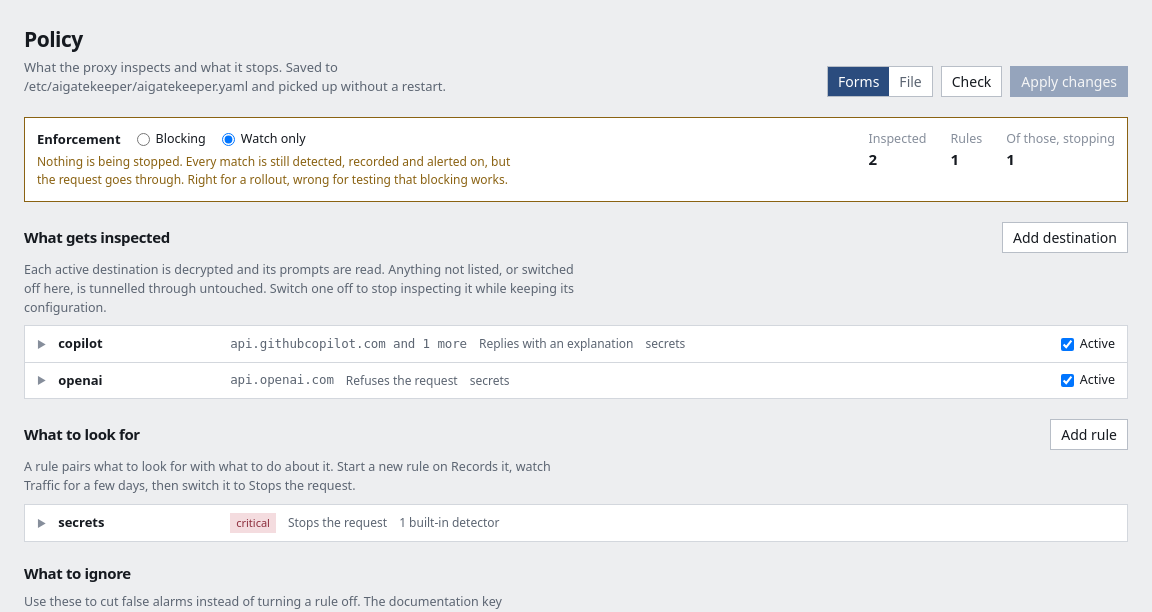
Test: Policy › lists services and rules collapsed, and opens one at a time
The image size is (1152, 612).
Check: the element "What gets inspected" is shown, box top-left (24, 222), bottom-right (1128, 399)
Check: the text "api.githubcopilot.com and 1 more" is shown, box top-left (230, 335), bottom-right (467, 353)
Click the button "copilot" at point(539, 344), box top-left (25, 326), bottom-right (1053, 362)
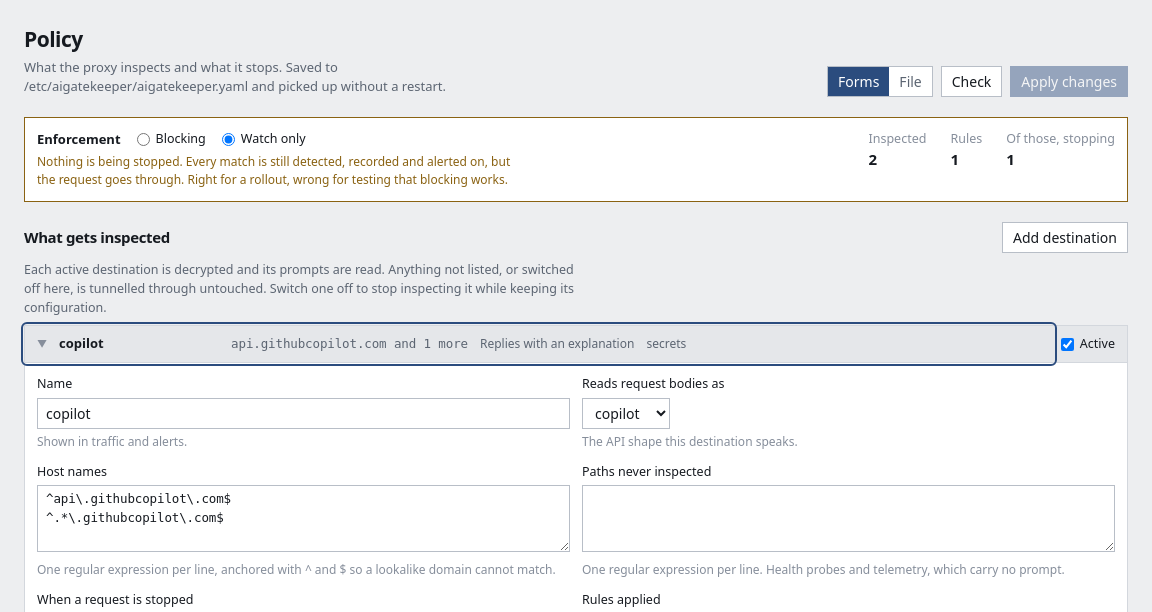
Check: the text box labelled "Host names" is shown, box top-left (37, 485), bottom-right (570, 552)
Click the button "copilot" at point(539, 344), box top-left (25, 326), bottom-right (1053, 362)
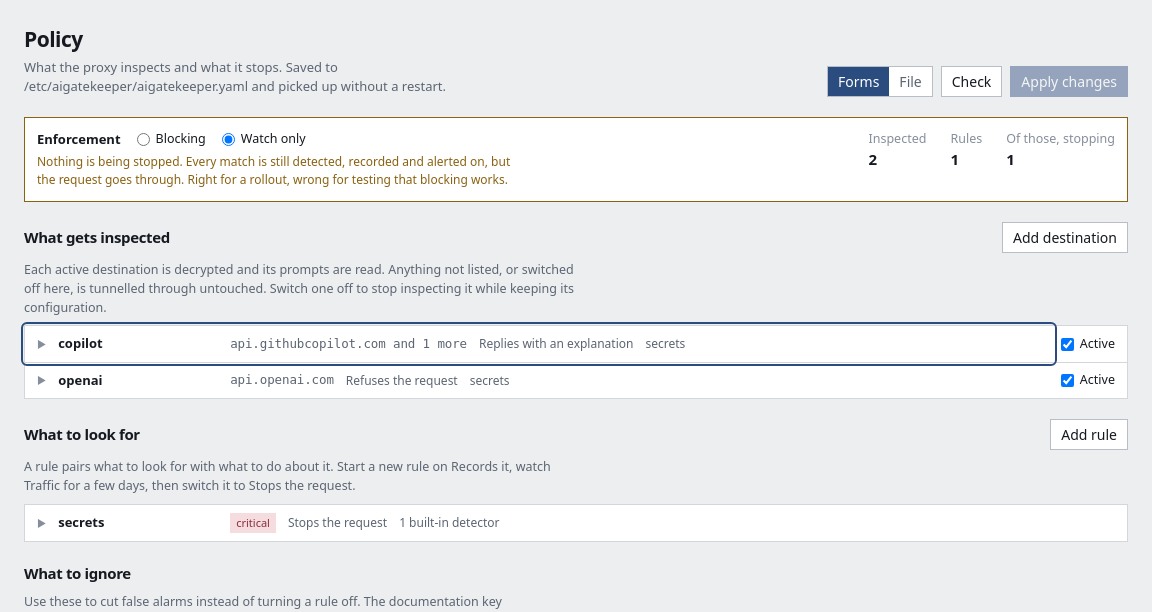
Check: the text labelled "Host names" is gone
